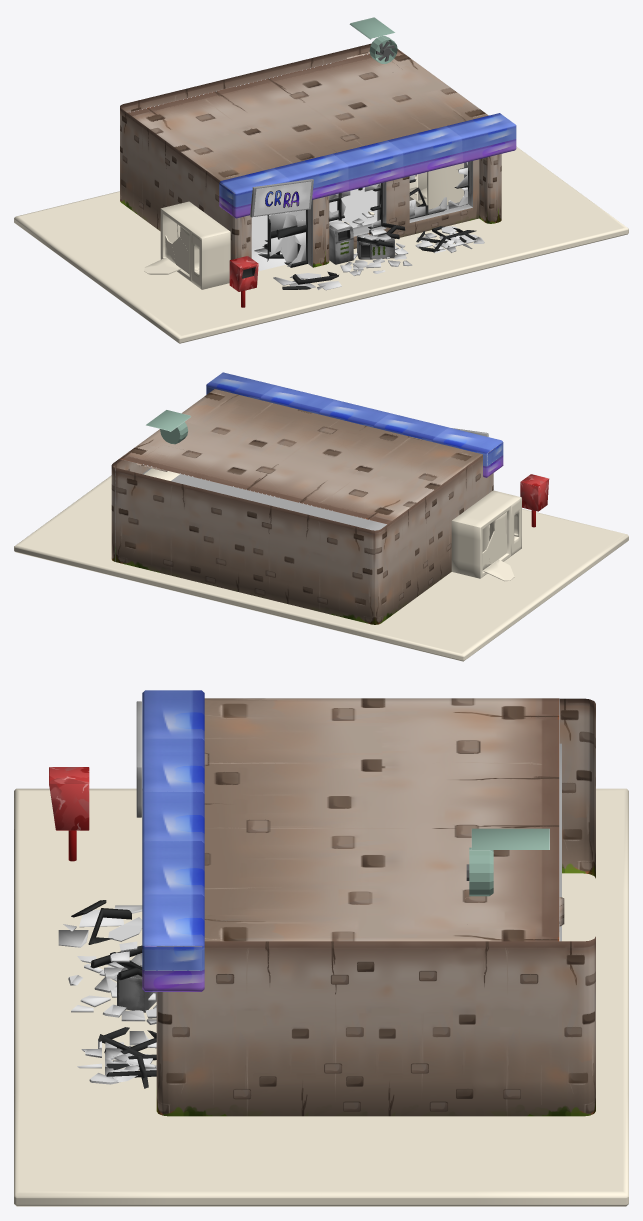
File: Store_Final.fbx
The picture shows the model from 3 angles, top to bottom: view 1: azimuth 30°, elevation 25°; view 2: azimuth 150°, elevation 25°; view 3: azimuth 270°, elevation 25°; orthographic projection. The views are drawn at different scales.
Parts seen in each view (by area): view 1: Frot_wall, Plane.001, Light_Purple_Blue, Cube.013, Floor, Name_Sign, Cube.015, Cube.033_cell, Cube.026_cell, Exaust, Cylinder, Trash_can.001 (+8 smaller); view 2: Frot_wall, Plane.001, Light_Purple_Blue, Cube.013, Exaust, Cylinder, Cube.014_cell, Cube.014_cell.002; view 3: Frot_wall, Plane.001, Light_Purple_Blue, Exaust, Cube.026_cell, Cylinder, Cube.037_cell.002, Cube.023_cell.004, Trash_can.002, Cube.022_cell.001, Name_Sign.
Part boxes in pixels (<box>): Frot_wall: <box>120,43,501,267</box>; Plane.001: <box>14,146,628,343</box>; Light_Purple_Blue: <box>219,113,516,218</box>; Cube.013: <box>160,201,230,289</box>; Floor: <box>251,187,377,271</box>; Name_Sign: <box>250,179,313,217</box>; Cube.015: <box>409,163,463,209</box>; Cube.033_cell: <box>267,213,299,265</box>; Cube.026_cell: <box>415,226,484,253</box>; Exaust: <box>346,17,397,65</box>; Cylinder: <box>229,256,258,307</box>; Trash_can.001: <box>329,222,353,264</box>; Frot_wall: <box>111,389,493,624</box>; Plane.001: <box>14,475,628,661</box>; Light_Purple_Blue: <box>206,372,503,477</box>; Cube.013: <box>451,490,521,578</box>; Exaust: <box>136,410,190,471</box>; Cylinder: <box>520,474,549,527</box>; Cube.014_cell: <box>482,512,514,581</box>; Cube.014_cell.002: <box>486,531,506,564</box>; Frot_wall: <box>156,698,595,1116</box>; Plane.001: <box>14,788,628,1206</box>; Light_Purple_Blue: <box>142,690,204,991</box>; Exaust: <box>465,828,564,926</box>; Cube.026_cell: <box>77,1027,156,1088</box>; Cylinder: <box>49,767,89,861</box>; Cube.037_cell.002: <box>58,900,142,947</box>; Cube.023_cell.004: <box>68,956,156,1024</box>; Trash_can.002: <box>117,953,156,1012</box>; Cube.022_cell.001: <box>90,941,142,980</box>; Name_Sign: <box>136,701,141,817</box>.
Bounding box in the file's own units: 1707 × 502 × 1087.
